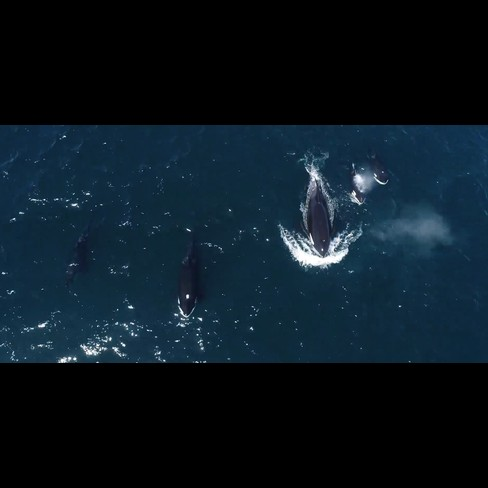orca: (291, 155, 347, 271), (54, 206, 106, 290), (165, 220, 207, 323), (345, 160, 376, 216), (361, 148, 394, 191)
